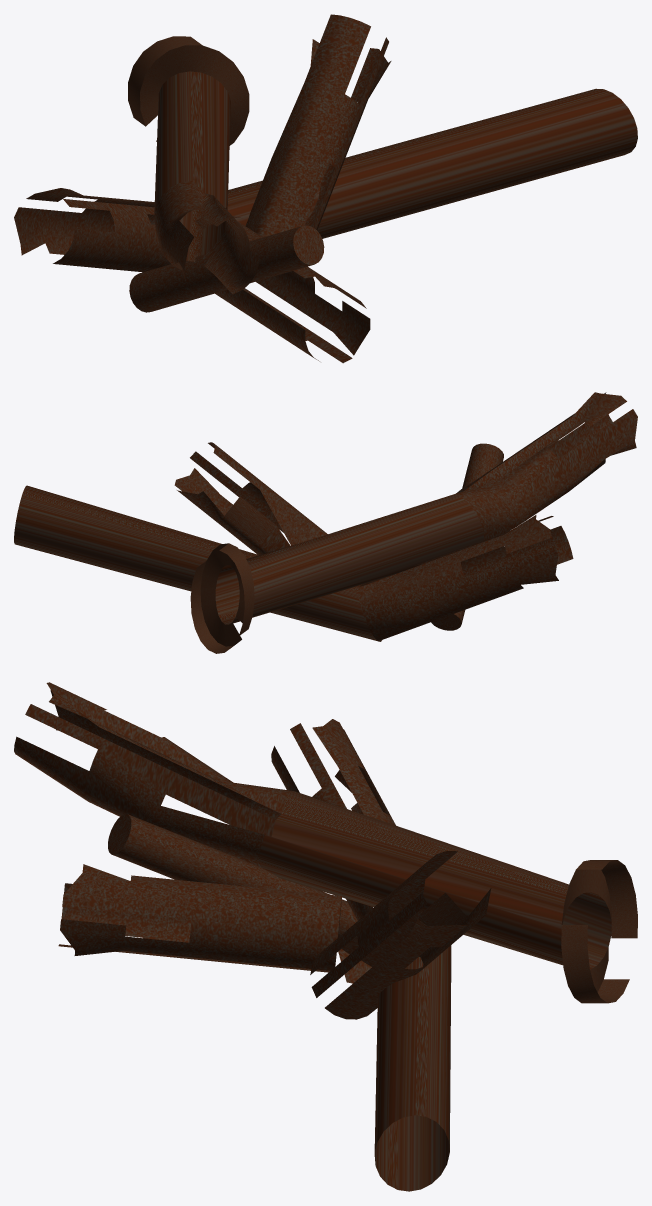
File: broken pipes.fbx
The picture shows the model from 3 angles, top to bottom: view 1: azimuth 30°, elevation 25°; view 2: azimuth 150°, elevation 25°; view 3: azimuth 270°, elevation 25°; orthographic projection. The views are drawn at different scales.
Visible parts, largest first — view 1: pCylinder4, pCylinder8, pCylinder7, pCylinder6, pCylinder2; view 2: pCylinder8, pCylinder4, pCylinder7, pCylinder2; view 3: pCylinder8, pCylinder6, pCylinder4, pCylinder7, pCylinder2.
Part boxes in pixels (left/top/right/bottom): pCylinder4: left=14, top=88, right=637, bottom=272; pCylinder8: left=128, top=36, right=259, bottom=294; pCylinder7: left=245, top=14, right=391, bottom=237; pCylinder6: left=199, top=222, right=370, bottom=363; pCylinder2: left=129, top=225, right=324, bottom=312; pCylinder8: left=190, top=392, right=637, bottom=653; pCylinder4: left=14, top=485, right=573, bottom=641; pCylinder7: left=174, top=442, right=327, bottom=555; pCylinder2: left=431, top=443, right=503, bottom=630; pCylinder8: left=14, top=682, right=637, bottom=1003; pCylinder6: left=58, top=864, right=341, bottom=972; pCylinder4: left=271, top=719, right=451, bottom=1191; pCylinder7: left=310, top=851, right=491, bottom=1019; pCylinder2: left=108, top=814, right=357, bottom=937.
Size of the model in its own units: 10.02 by 3.13 by 7.87.
